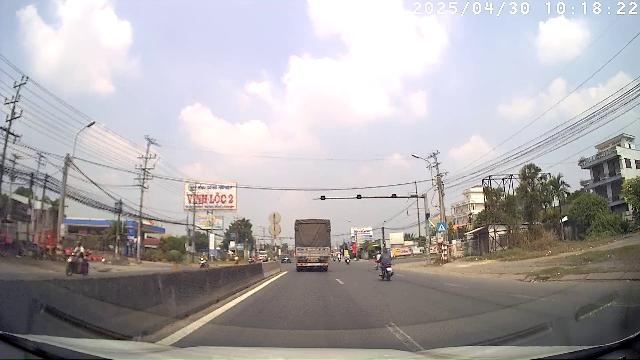423a-duong-nguoi-di-bo-sang-ngang-1: (438, 222, 447, 231)
